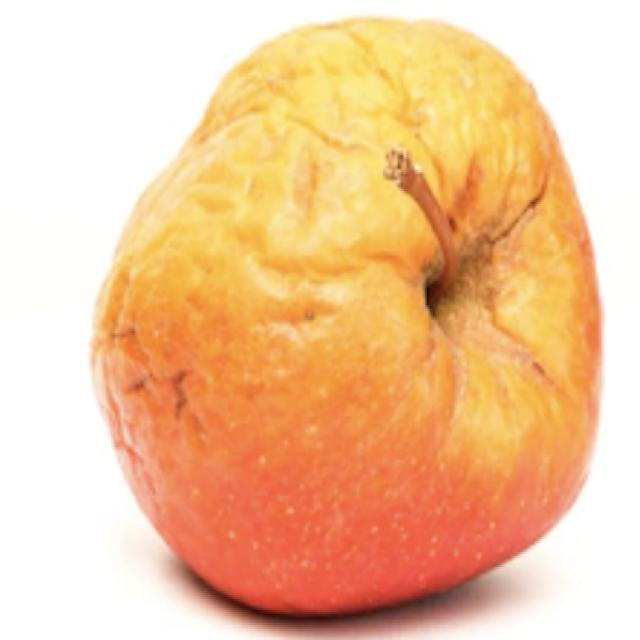Rotten: (94, 8, 638, 602)
